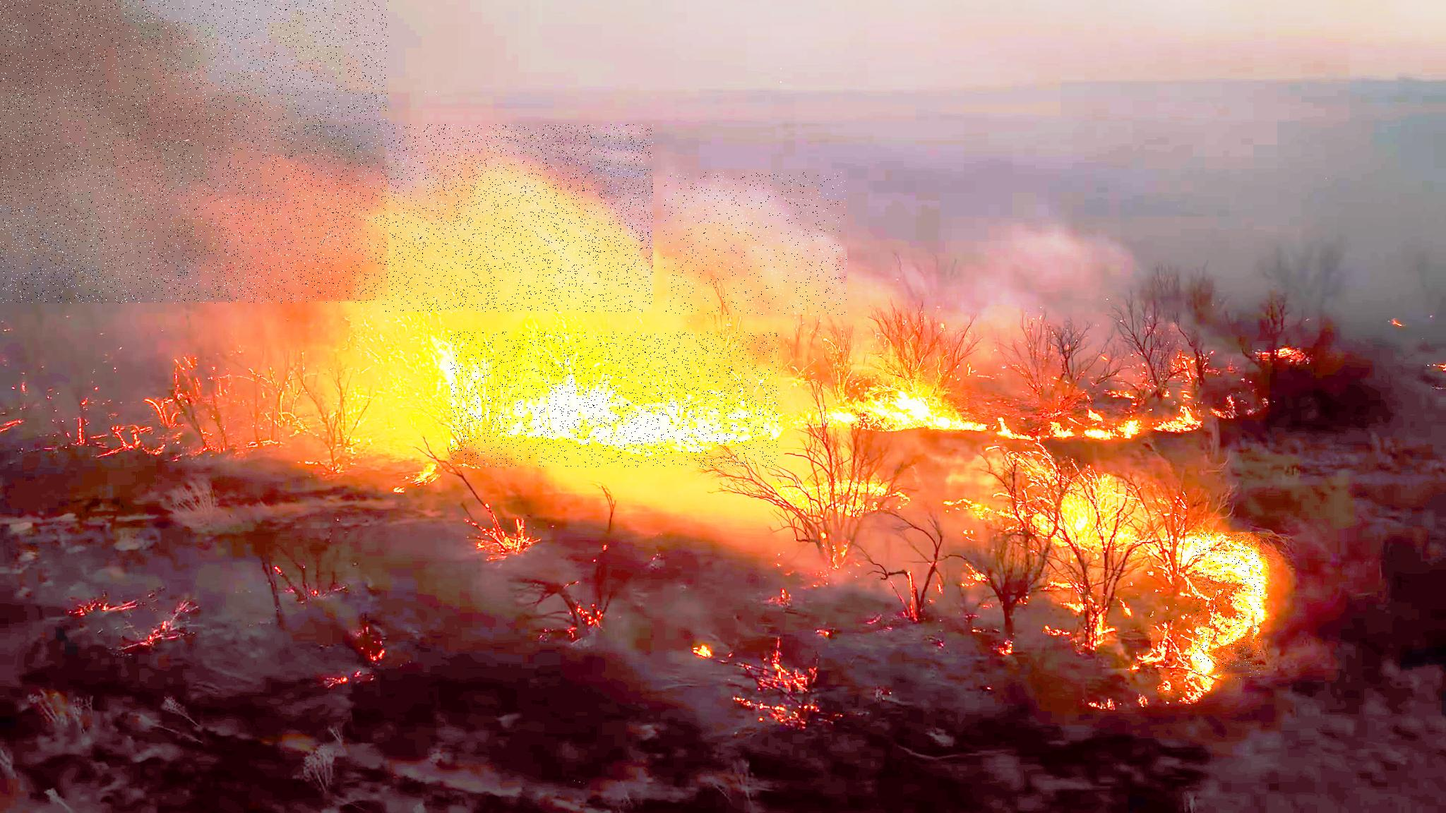fire: (451, 332, 778, 467), (1192, 532, 1261, 679)
smoke: (0, 0, 388, 303), (382, 124, 653, 312), (664, 172, 847, 315)
